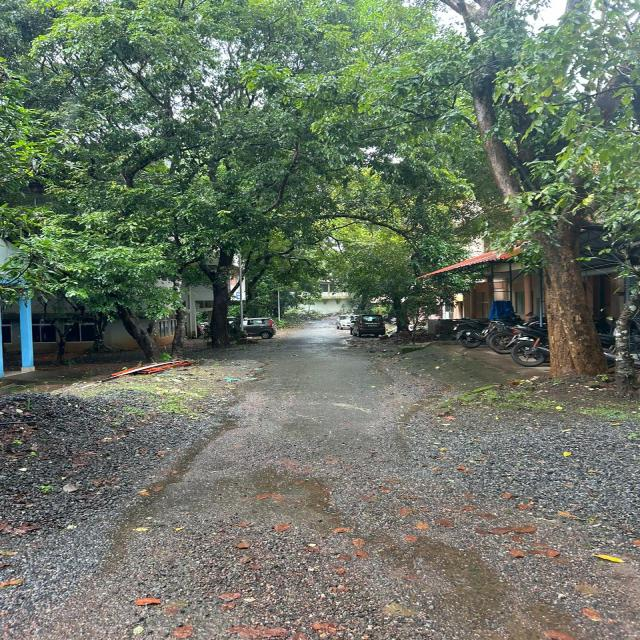tree ahead at: (445, 64, 615, 386)
